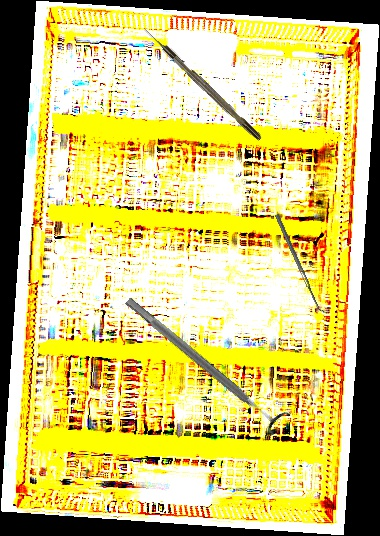Fixation Ring: (118, 288, 292, 437)
Hook Surgical: (141, 24, 263, 143)
Spatula Surgical: (274, 212, 328, 317)
